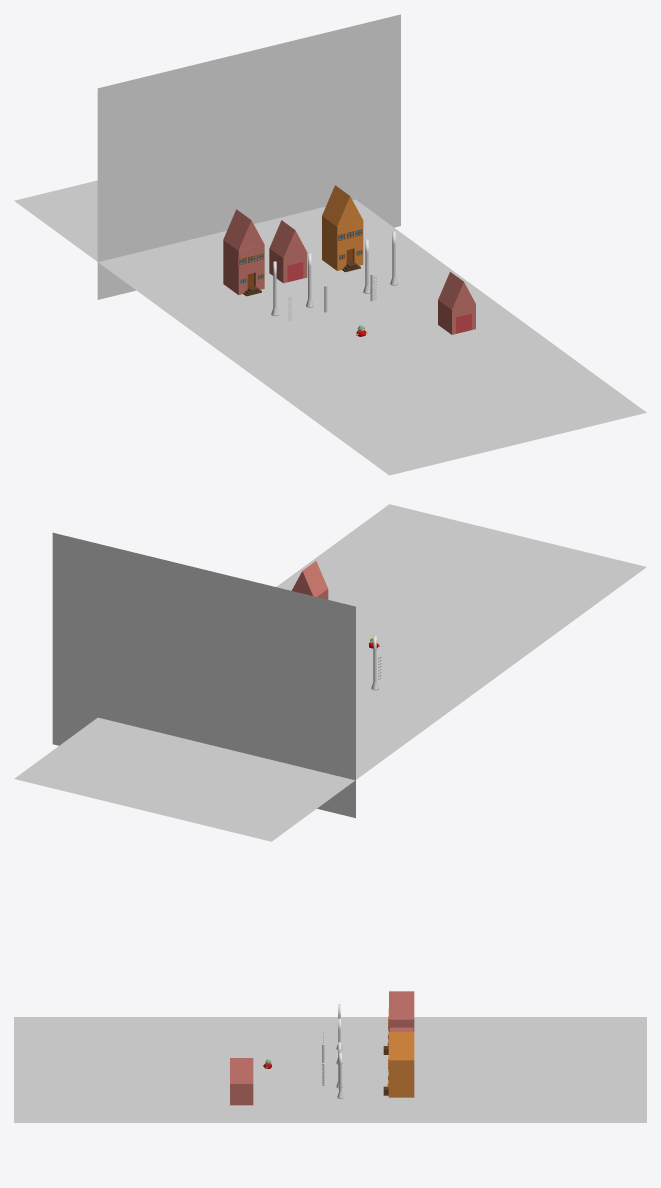
3 renders of one model, top to bottom at view 1: azimuth 30°, elevation 25°; view 2: azimuth 150°, elevation 25°; view 3: azimuth 270°, elevation 25°, orthographic. The views are drawn at different scales.
Parts seen in each view (by area): view 1: Plane; view 2: Plane; view 3: Plane.
Part boxes in pixels (bbox=[...]): Plane: bbox=[14, 14, 646, 475]; Plane: bbox=[14, 504, 646, 841]; Plane: bbox=[14, 991, 646, 1122].
Size of the model in its own units: 6330 by 4220 by 13566.
